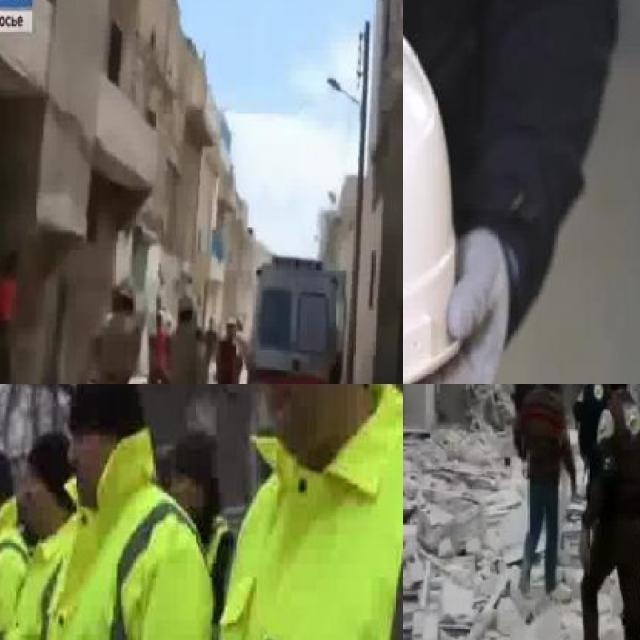apron: (403, 224, 510, 384)
